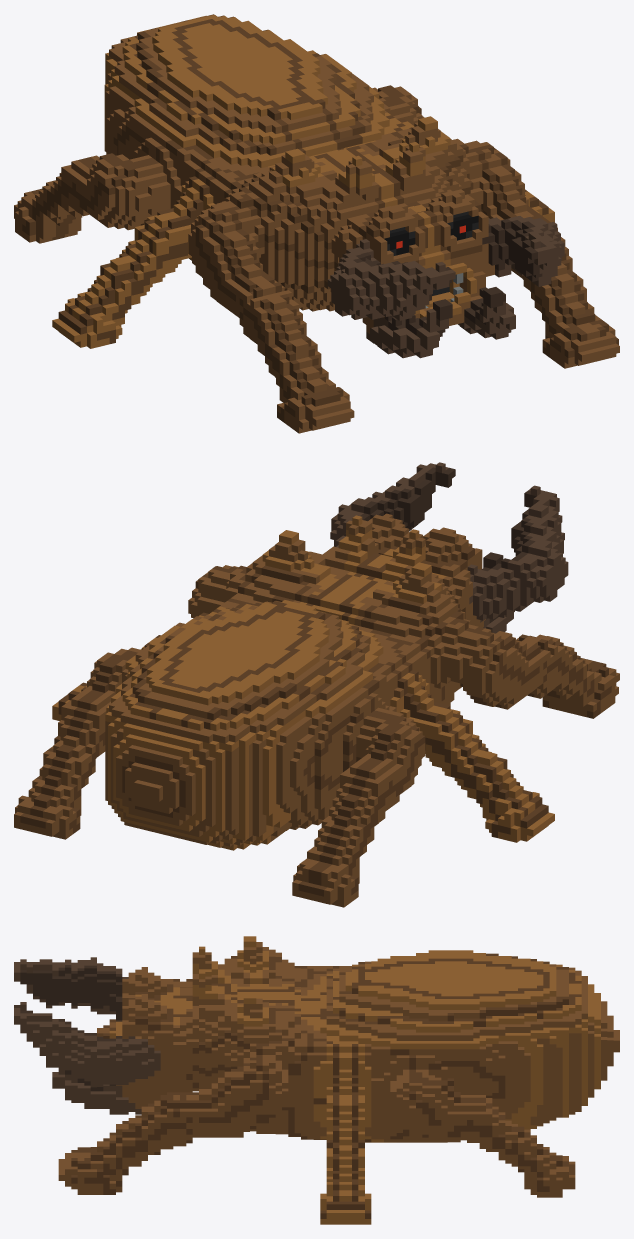
Rendered from beetle_dead_v1-1.obj.
The picture shows the model from 3 angles, top to bottom: view 1: azimuth 30°, elevation 25°; view 2: azimuth 150°, elevation 25°; view 3: azimuth 270°, elevation 25°; orthographic projection. The views are drawn at different scales.
Bounding box in the file's own units: 7.6 × 2.9 × 9.5.
1 material, 1 textured.
